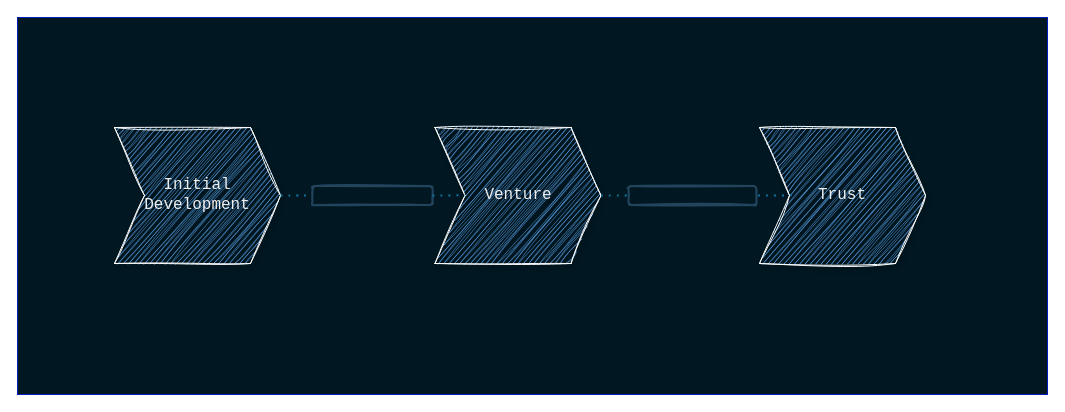
This 1065x412 diagram has some shape labels left out. The shapes that lost their labels are listed below. From the top down, each one's centre as x and y in pixels, then its label:
the point at 372,195: With investment
the point at 692,195: Product Efficacy
